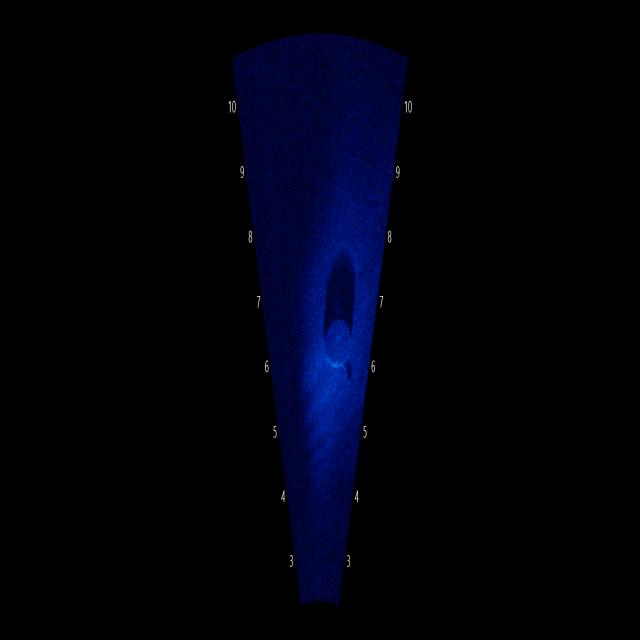circle: (321, 309, 356, 384)
